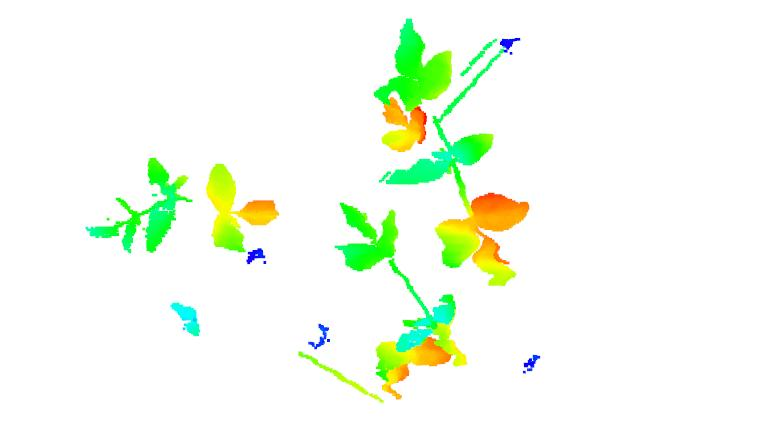mungbean: (372, 22, 527, 282), (338, 202, 469, 381), (75, 158, 279, 259)
